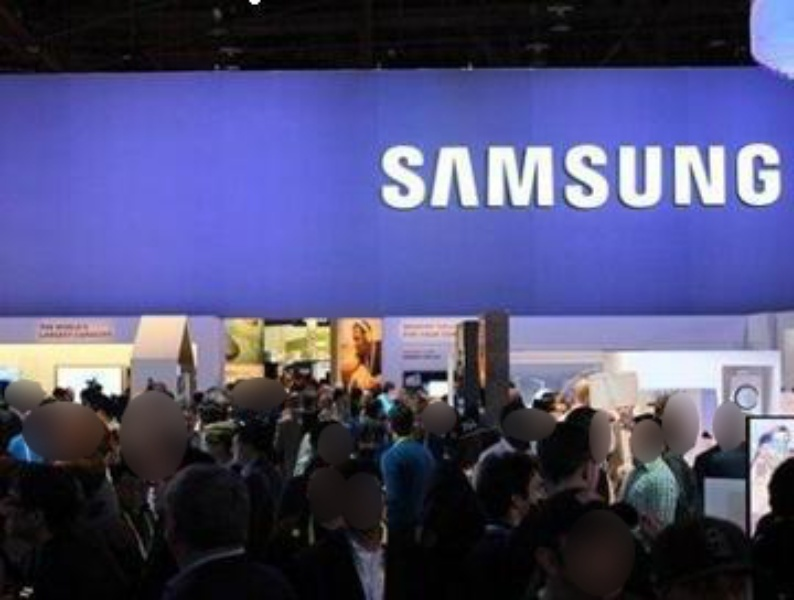text: (385, 142, 400, 210), (401, 142, 416, 210), (417, 142, 432, 210), (433, 142, 448, 210), (449, 142, 464, 210), (465, 142, 480, 210), (481, 142, 496, 210), (497, 142, 512, 210), (513, 142, 528, 210), (529, 142, 544, 210), (545, 142, 560, 210), (561, 142, 576, 210), (577, 142, 592, 210), (593, 142, 608, 210), (609, 142, 624, 210), (625, 142, 640, 210), (641, 142, 656, 210), (657, 142, 672, 210), (673, 142, 688, 210), (689, 142, 704, 210), (705, 142, 720, 210), (721, 142, 736, 210), (737, 142, 752, 210), (753, 142, 768, 210), (769, 142, 781, 210), (49, 320, 64, 340), (65, 320, 80, 340), (81, 320, 96, 340), (97, 320, 112, 340), (380, 142, 384, 210), (36, 320, 48, 340), (401, 347, 416, 362), (417, 347, 432, 362), (417, 329, 432, 340), (433, 329, 448, 340), (402, 329, 416, 340), (433, 347, 442, 362), (401, 323, 416, 331), (417, 323, 432, 331), (433, 323, 448, 331), (449, 323, 457, 331), (449, 329, 453, 340), (113, 320, 115, 340), (398, 323, 400, 331)
